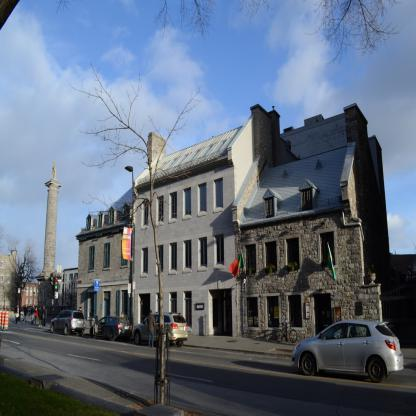car: (291, 314, 405, 382), (131, 310, 187, 348), (90, 316, 132, 342), (50, 310, 86, 336)
